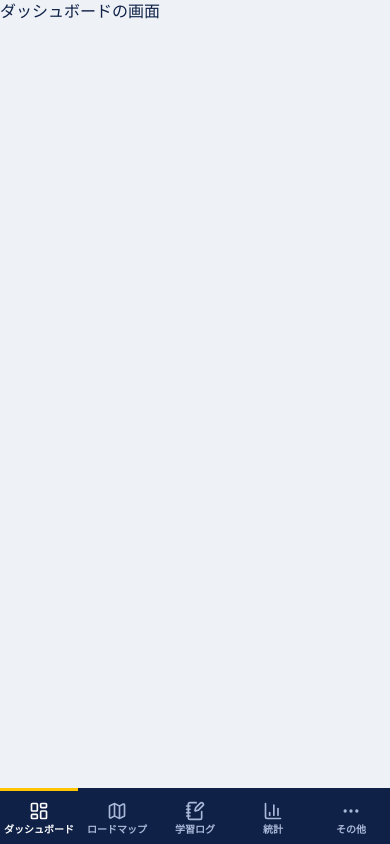
Test: BottomNav › 「その他」を押すと、残りの3画面へのメニューを開く
Click the button "その他".
click(351, 816)  # box 312,788 -> 389,843
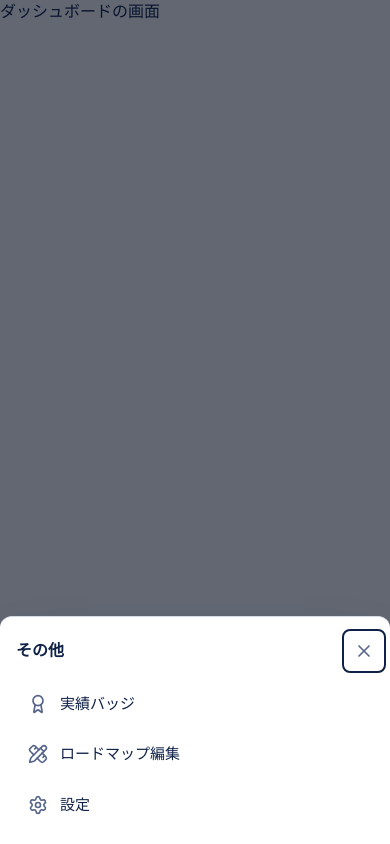
expect the links read "実績バッジ", "ロードマップ編集", "設定", in this order: met, box 28,694 -> 135,714; 28,744 -> 180,764; 28,795 -> 90,815
